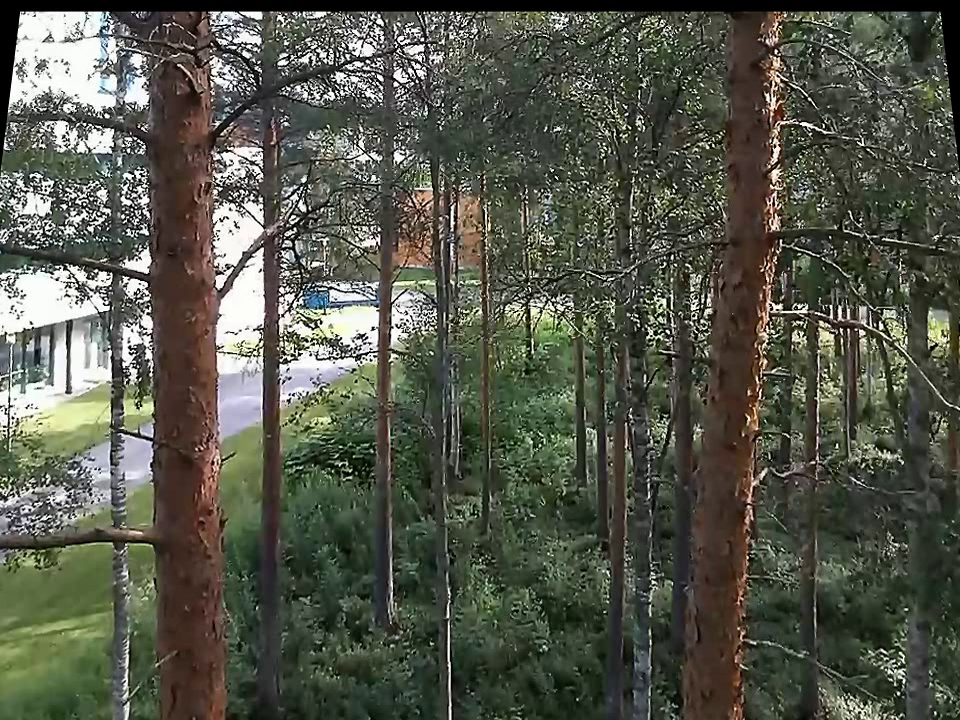branch: (779, 298, 952, 407), (782, 212, 955, 270), (749, 629, 882, 704), (7, 233, 147, 296), (3, 518, 155, 563), (15, 101, 145, 146)
trunk: (671, 23, 792, 717), (130, 14, 235, 707), (252, 32, 300, 701), (373, 32, 411, 625), (429, 164, 468, 712), (596, 299, 630, 695), (469, 197, 503, 528), (508, 203, 549, 356), (560, 302, 593, 475)
